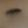cockroach: (6, 8, 21, 15)
